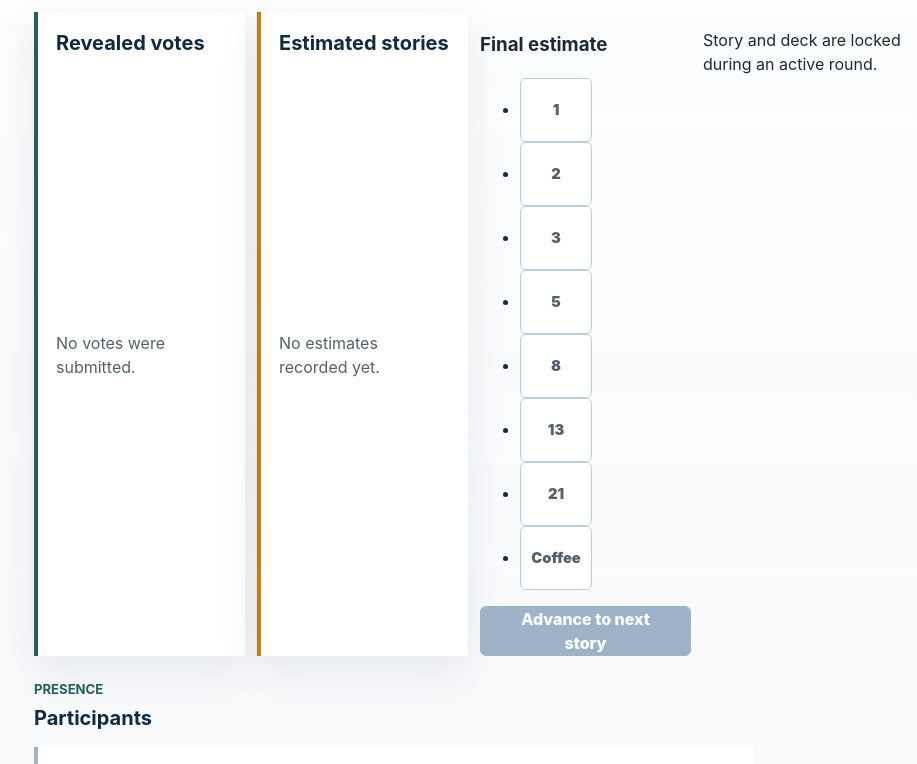
Test: ModeratorSessionView › records a final estimate only after a successful server acknowledgement
(page scrolled)
Click the button named "Record final estimate 8" at (556, 366), box top-left (520, 334), bottom-right (592, 398)
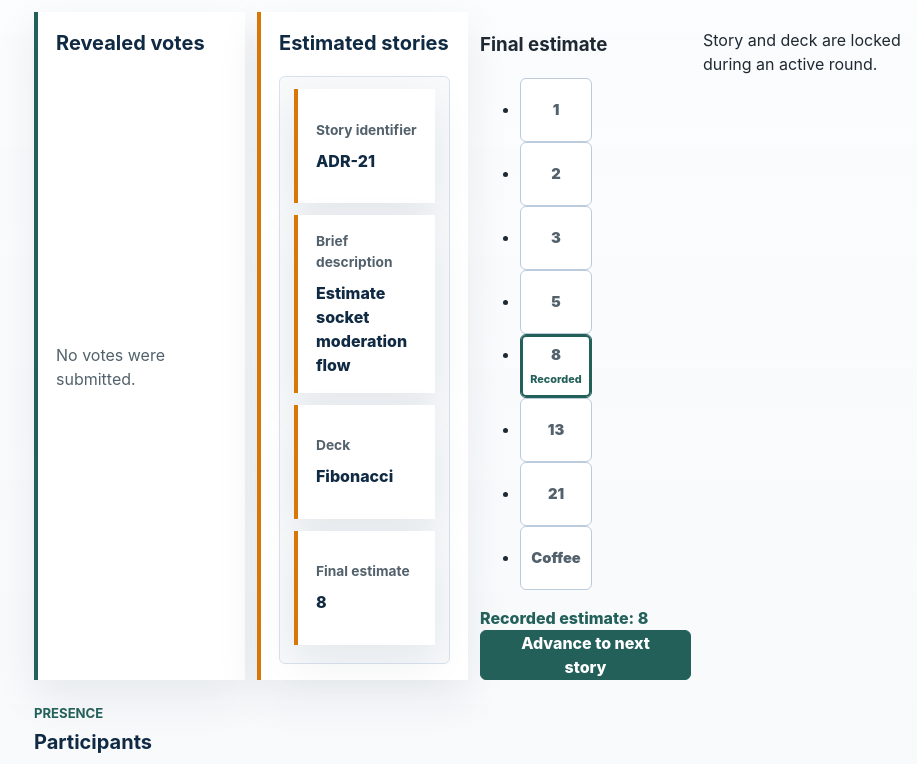
Expected: the text "Recorded estimate: 8" is shown, top-left (480, 608), bottom-right (648, 628)
Expected: the text "ADR-21" is shown, top-left (316, 151), bottom-right (375, 171)
Expected: the text "Estimate socket moderation flow" is shown, top-left (316, 281), bottom-right (417, 377)
